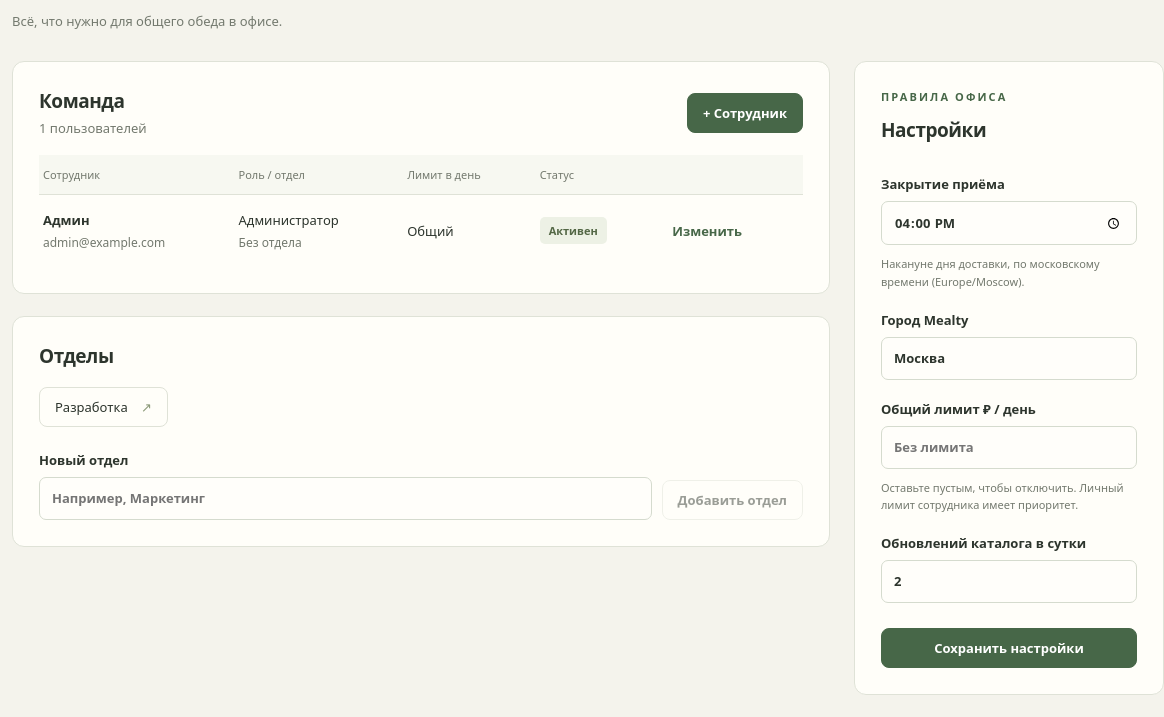
Scenario: does not allow unsent settings changes during a pending save
(page scrolled)
Click the button "Сохранить настройки": click(1009, 648) [881,628,1137,668]
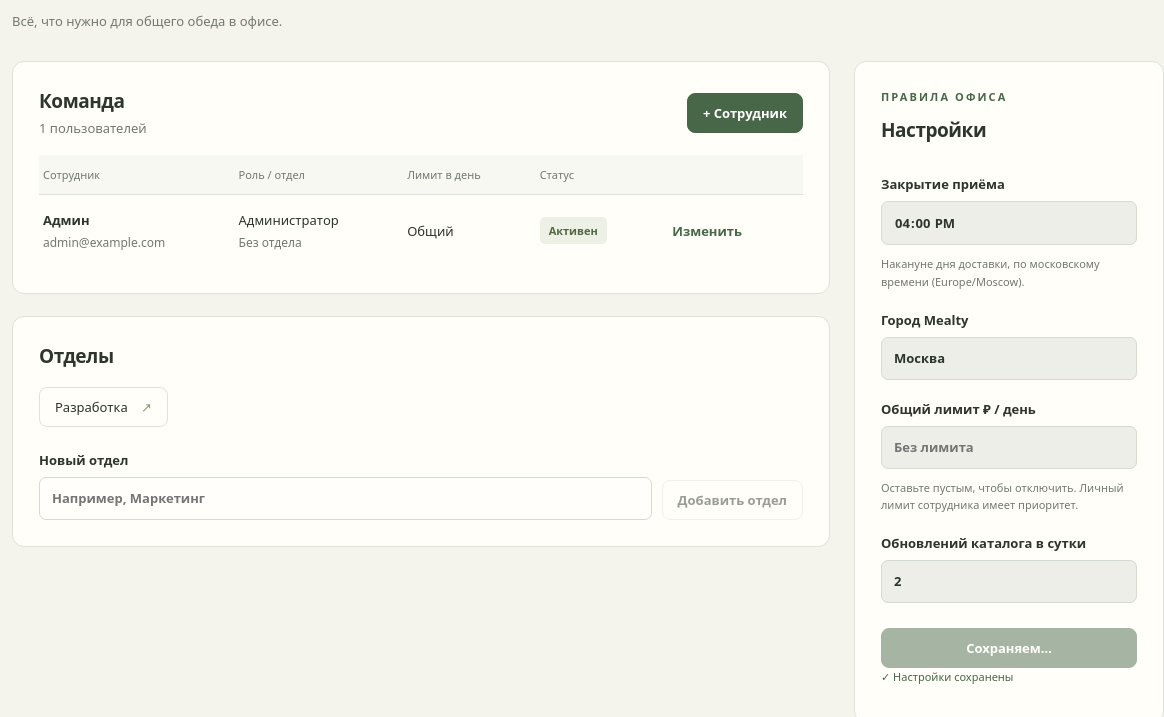
Check: the field labelled "Город Mealty" is disabled, box [881,337,1137,380]
Check: the button "Сохраняем…" is shown, box [881,628,1137,668]
